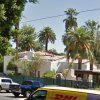Palm tree: (59, 2, 98, 74)
